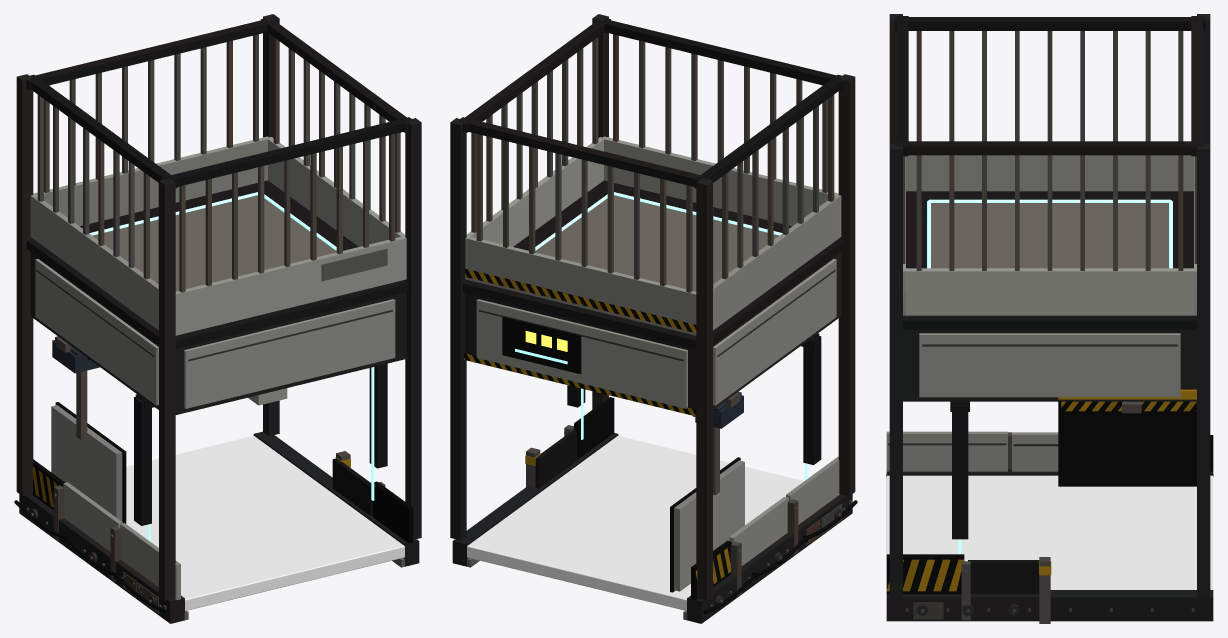
File: filter_basic.glb
3 renders of one model, left to right at view 1: azimuth 30°, elevation 25°; view 2: azimuth 150°, elevation 25°; view 3: azimuth 270°, elevation 25°, orthographic. The views are drawn at different scales.
Parts seen in each view (by area): view 1: Frame, Belt, Pusher; view 2: Frame, Belt, Pusher; view 3: Frame, Belt, Pusher.
Part boxes in pixels (bbox=[...]): Frame: bbox=[14, 14, 421, 623]; Belt: bbox=[126, 436, 404, 610]; Pusher: bbox=[51, 336, 126, 523]; Frame: bbox=[450, 14, 857, 623]; Belt: bbox=[467, 436, 803, 610]; Pusher: bbox=[670, 391, 744, 592]; Frame: bbox=[886, 14, 1213, 623]; Belt: bbox=[886, 475, 1213, 589]; Pusher: bbox=[1058, 401, 1196, 486].
Bounding box in the file's own units: 1.98 × 3.21 × 2.
